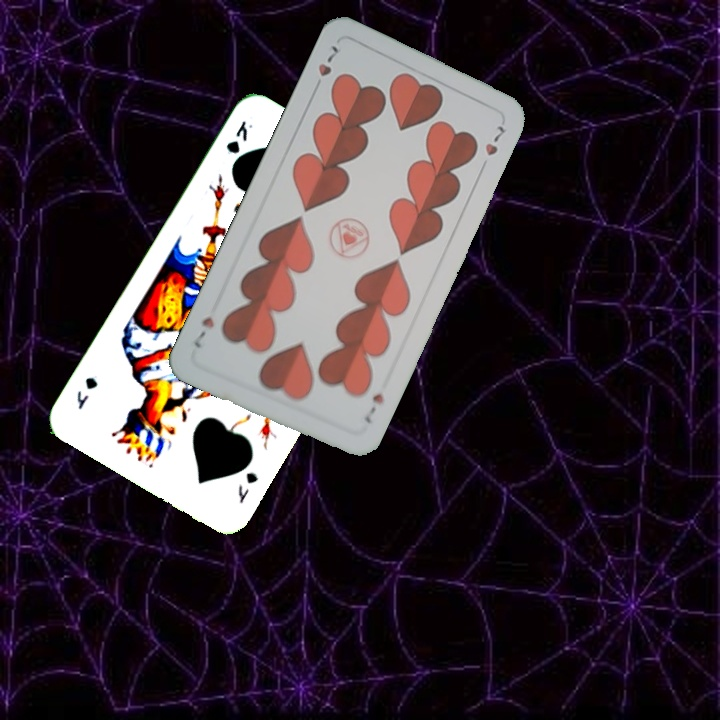GK: (222, 116, 256, 158), (233, 468, 261, 507)
H7: (309, 41, 342, 94), (359, 388, 387, 426)
